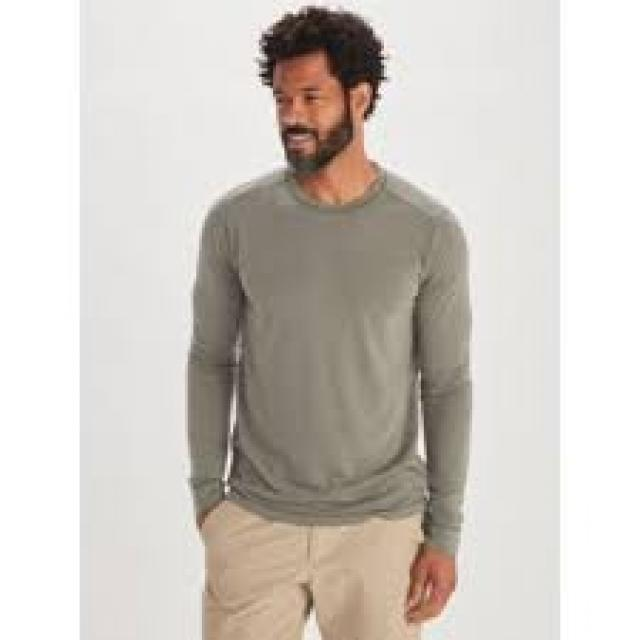plain: (186, 166, 473, 529)
